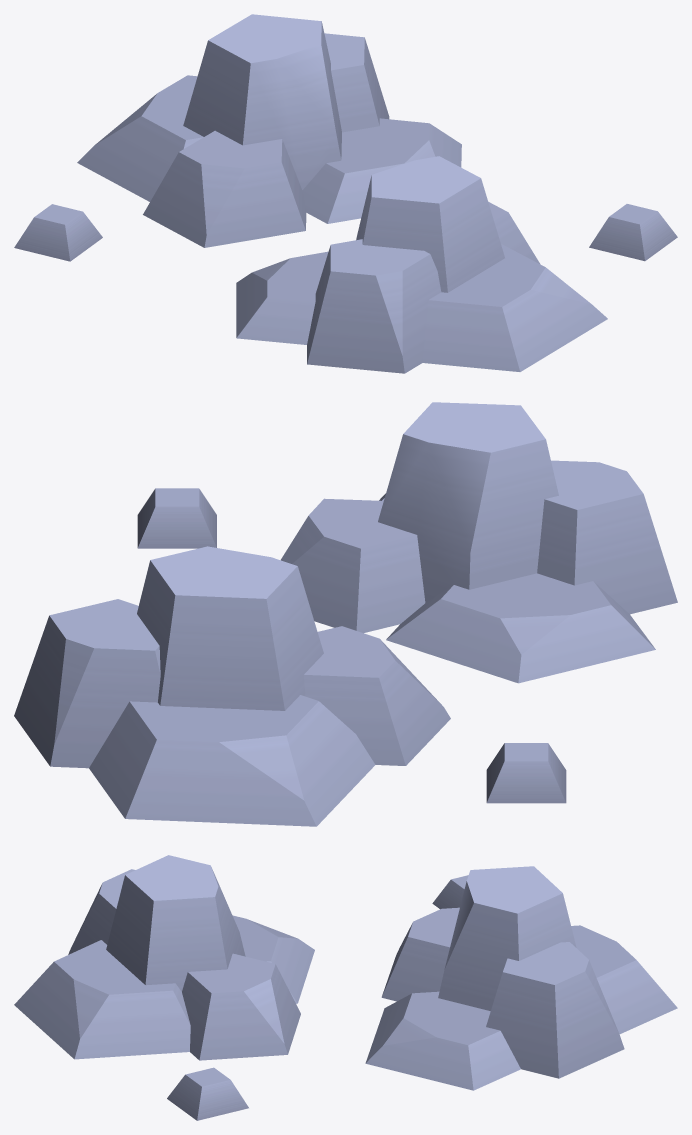
The model's file is bigrocks_decorations.fbx.
3 views of the same model, one above another, from view 1: azimuth 30°, elevation 25°; view 2: azimuth 150°, elevation 25°; view 3: azimuth 270°, elevation 25° (orthographic). The views are drawn at different scales.
Parts seen in each view (by area): view 1: stone_rocks; view 2: stone_rocks; view 3: stone_rocks.
Part boxes in pixels (x1,y1,x2,y2): stone_rocks: (14,14,677,373); stone_rocks: (14,402,677,826); stone_rocks: (14,855,677,1120).
Size of the model in its own units: 81.73 by 20.61 by 99.67.
